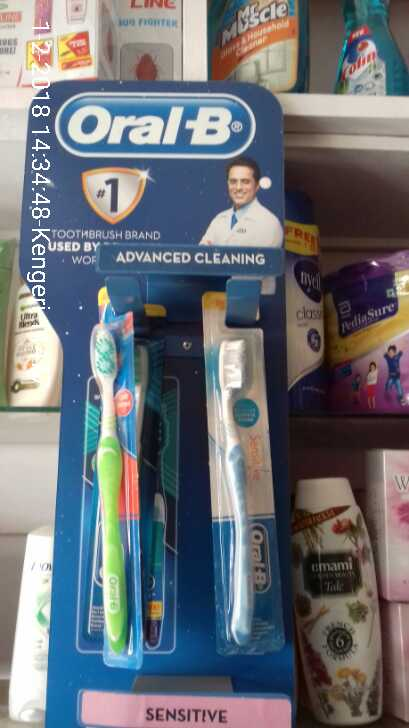oralb: (198, 287, 281, 654), (84, 279, 144, 675)
